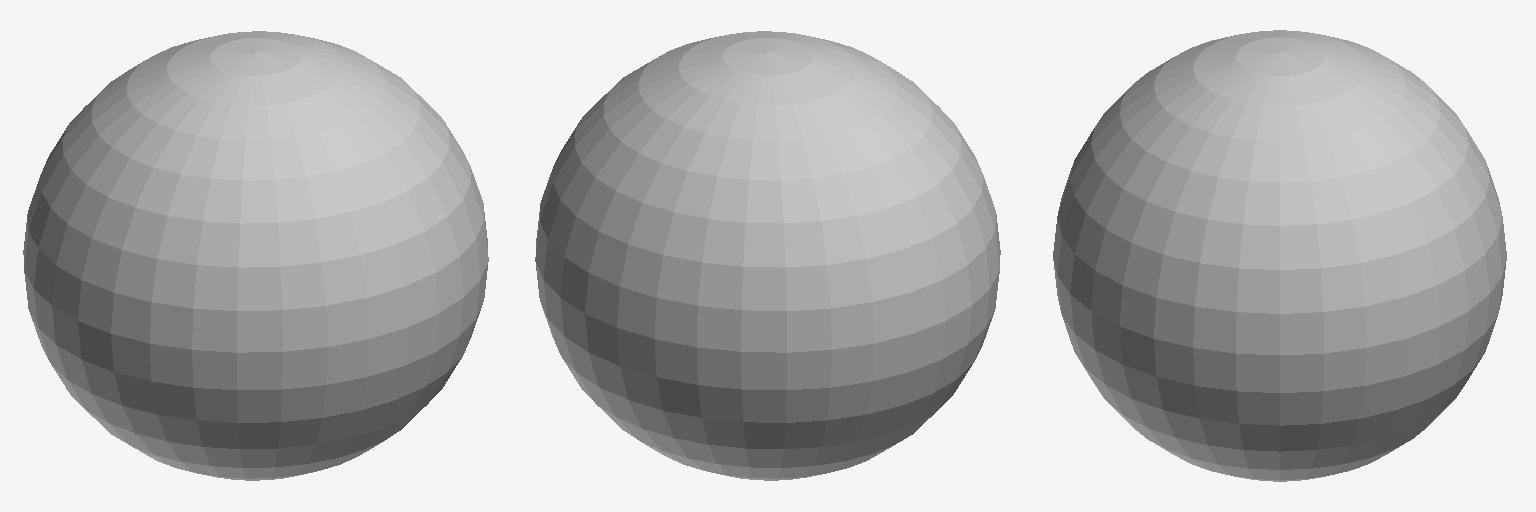
The model's file is strela.obj.
3 views of the same model, side by side, from view 1: azimuth 30°, elevation 25°; view 2: azimuth 150°, elevation 25°; view 3: azimuth 270°, elevation 25° (orthographic).
Visible parts, largest first — view 1: Sphere; view 2: Sphere; view 3: Sphere.
Boxes of the visible parts, x1,y1,x2,y2 form: Sphere: [23, 31, 488, 480]; Sphere: [535, 31, 1000, 480]; Sphere: [1053, 30, 1506, 481].
Bounding box in the file's own units: 0.2939 × 0.2798 × 0.2833.